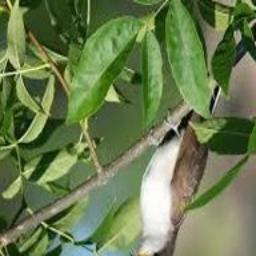Cuckoo: (129, 73, 227, 256)
